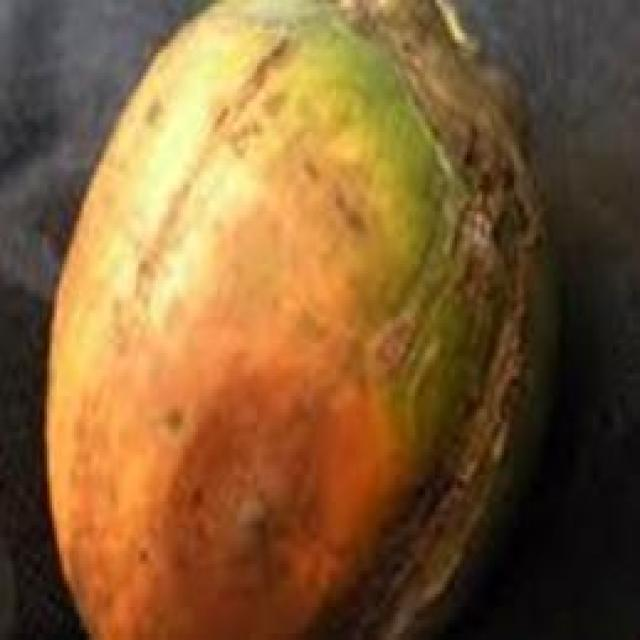good: (42, 0, 561, 637)
